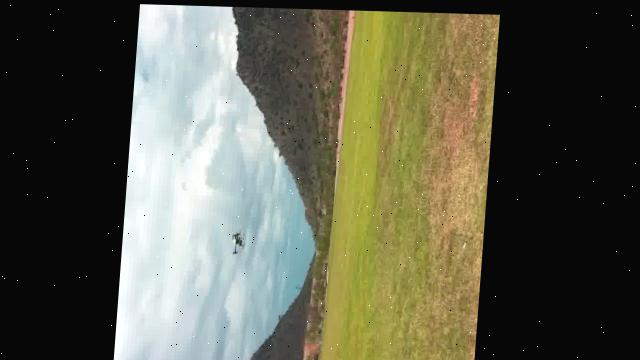drone: (231, 227, 248, 255)
